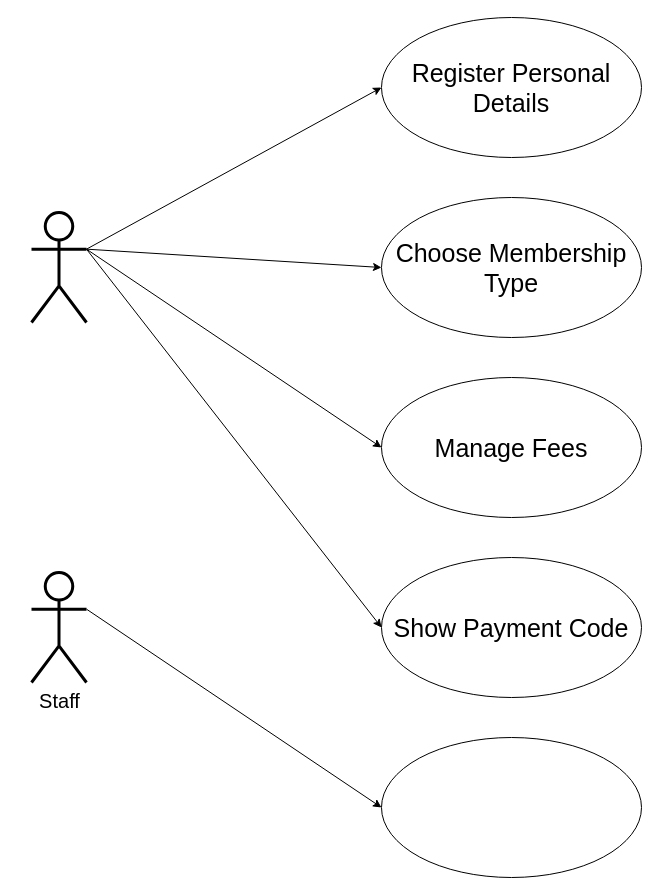
Some shapes in this 659 by 895 pixel diagram are drawn without their labels. Here are the shapes that lost their labels. From the top down, the centre of each, then its label:
the point at 59,267: Customer
the point at 511,807: Authenticate Membership
